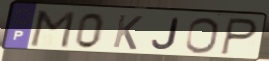0: (73, 11, 106, 51)
J: (150, 17, 181, 51)
K: (111, 13, 145, 51)
M: (27, 10, 78, 50)
O: (183, 17, 220, 55)
P: (218, 17, 259, 57)
